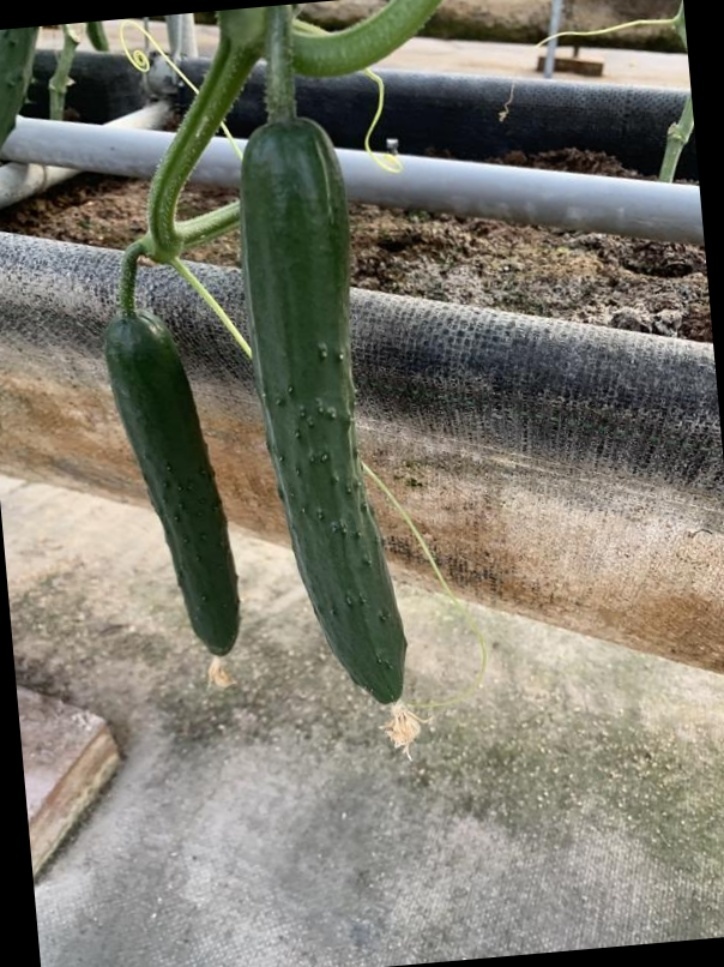mature: (240, 114, 436, 724), (95, 305, 245, 663)
